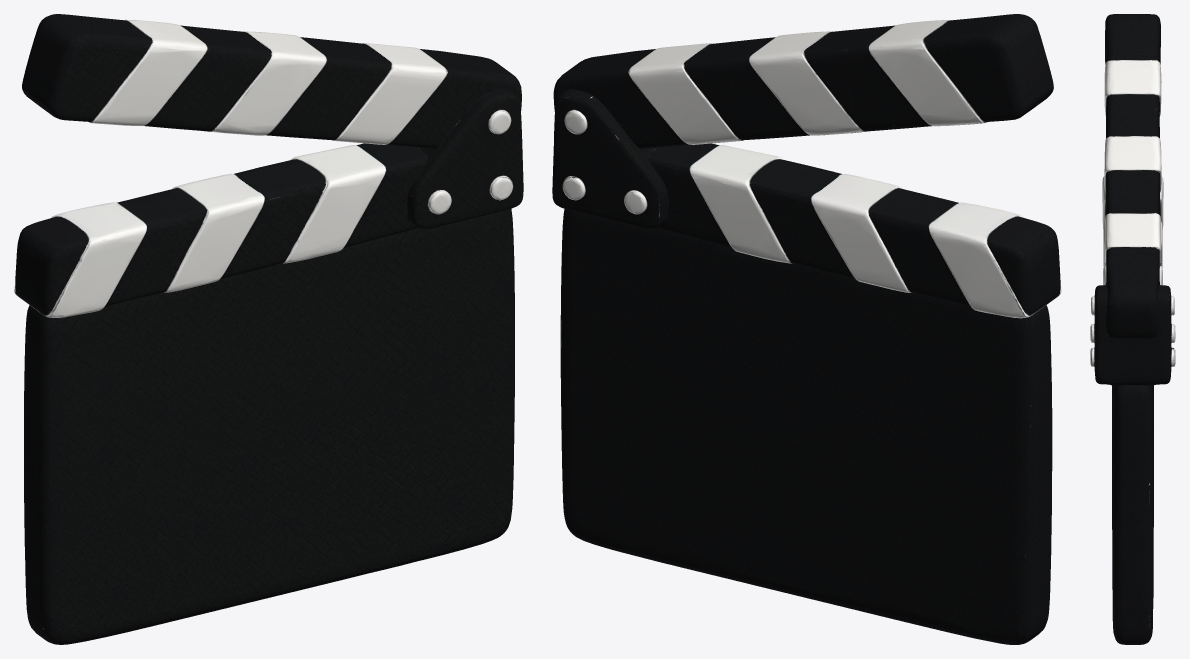
The model's file is clapperboard.glb.
3 views of the same model, side by side, from view 1: azimuth 30°, elevation 25°; view 2: azimuth 150°, elevation 25°; view 3: azimuth 270°, elevation 25° (orthographic). The views are drawn at different scales.
Parts seen in each view (by area): view 1: clapperboard; view 2: clapperboard; view 3: clapperboard.
Boxes of the visible parts, left/top/right/bottom form: clapperboard: left=14, top=14, right=523, bottom=644; clapperboard: left=552, top=14, right=1061, bottom=644; clapperboard: left=1090, top=14, right=1175, bottom=644.
Size of the model in its own units: 0.8187 by 1 by 0.1632.
Materials: 1 (1 with a texture image).
